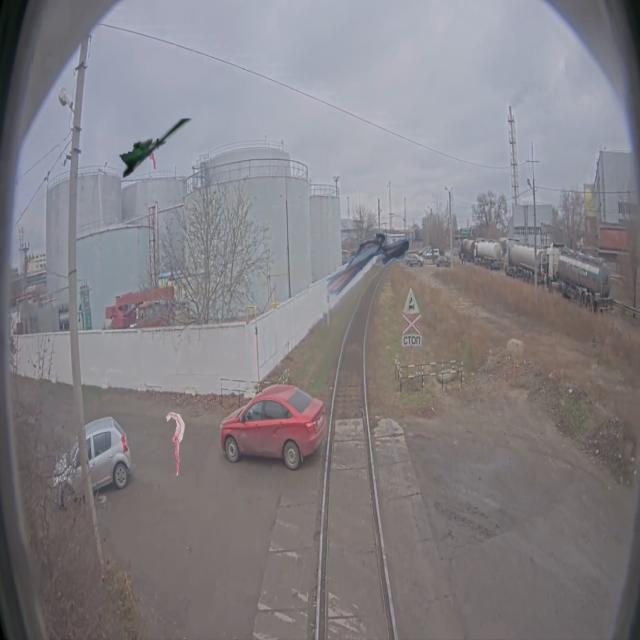floating object: (326, 232, 408, 296), (118, 114, 195, 178), (166, 412, 185, 476)
